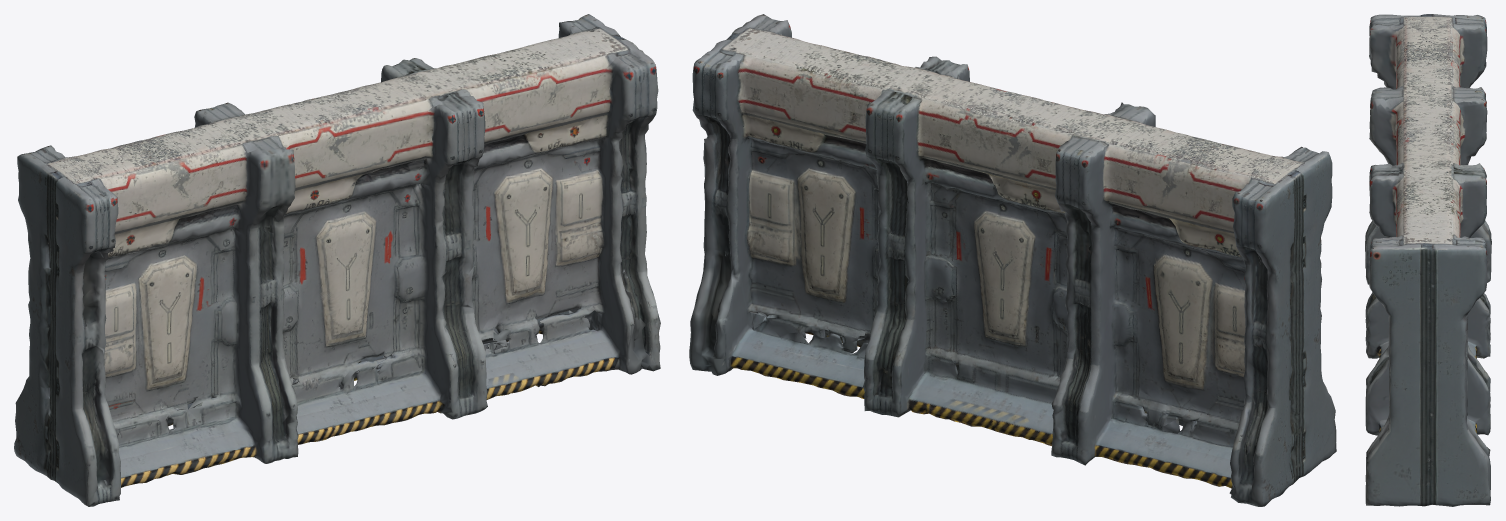
File: BossSideWall.glb
The picture shows the model from 3 angles, left to right: view 1: azimuth 30°, elevation 25°; view 2: azimuth 150°, elevation 25°; view 3: azimuth 270°, elevation 25°; orthographic projection. The views are drawn at different scales.
Visible parts, largest first — view 1: texture_mapping; view 2: texture_mapping; view 3: texture_mapping.
Boxes of the visible parts, <box> form: texture_mapping: <box>14,14,660,506</box>; texture_mapping: <box>689,14,1336,506</box>; texture_mapping: <box>1365,14,1491,506</box>.
Bounding box in the file's own units: 1 × 0.5139 × 0.2273.
1 material, 1 textured.
